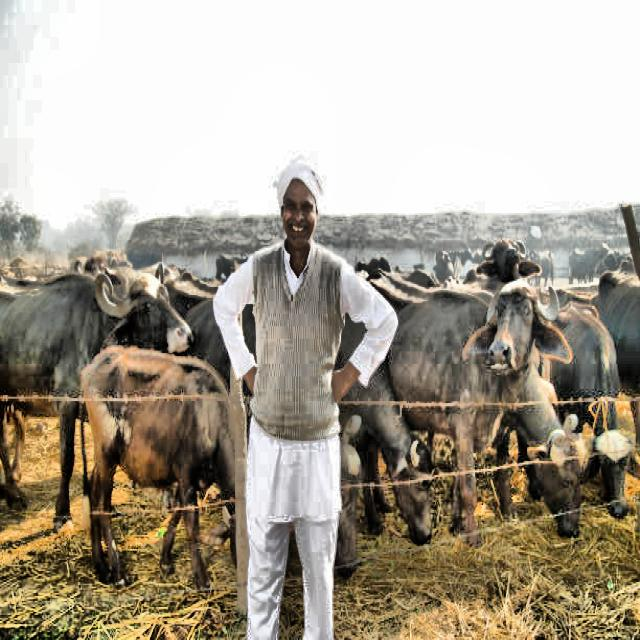Human: (217, 151, 387, 640)
